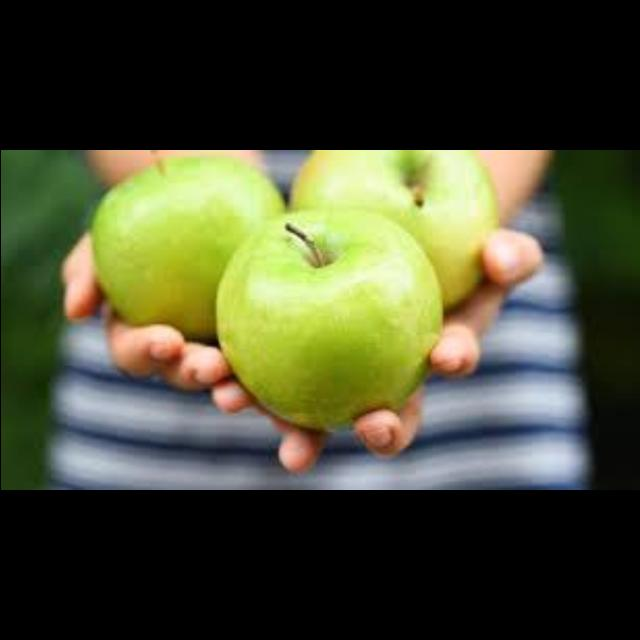apple: (218, 210, 441, 428), (87, 156, 283, 339), (289, 150, 497, 308)
